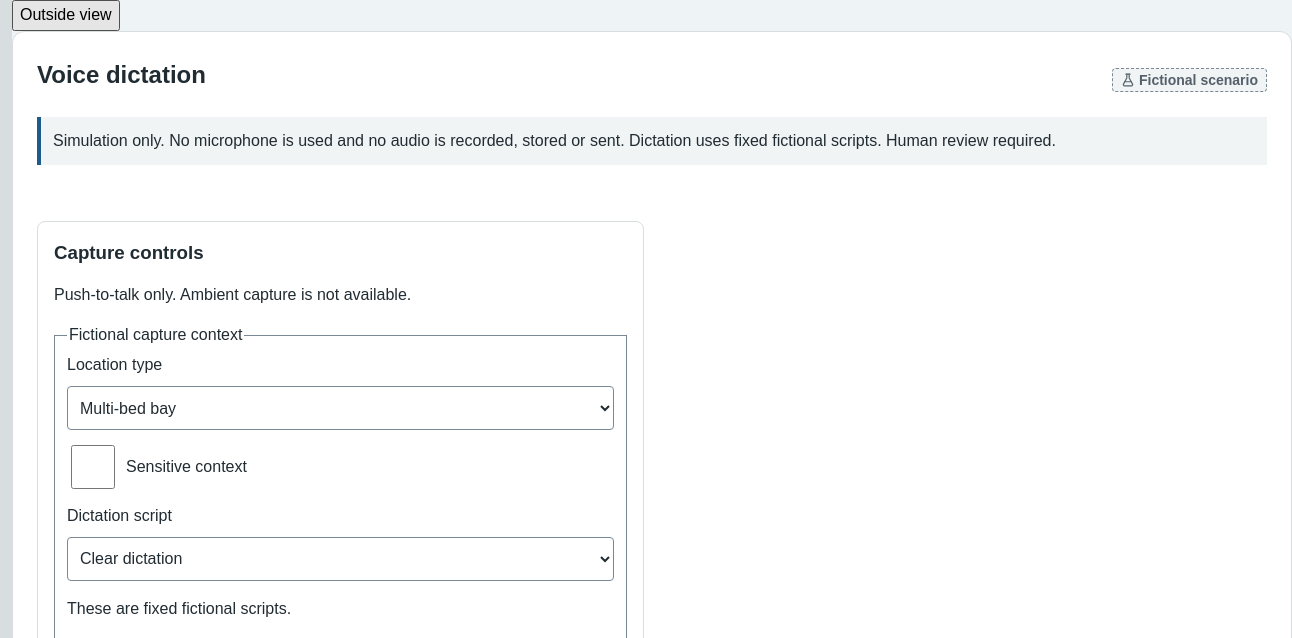
Test: announces an empty edit refusal and renders markup-shaped edits as text only
Select "Clear dictation" in the dropdown labelled "Dictation script": (340, 559) [67,537,614,581]
(page scrolled)
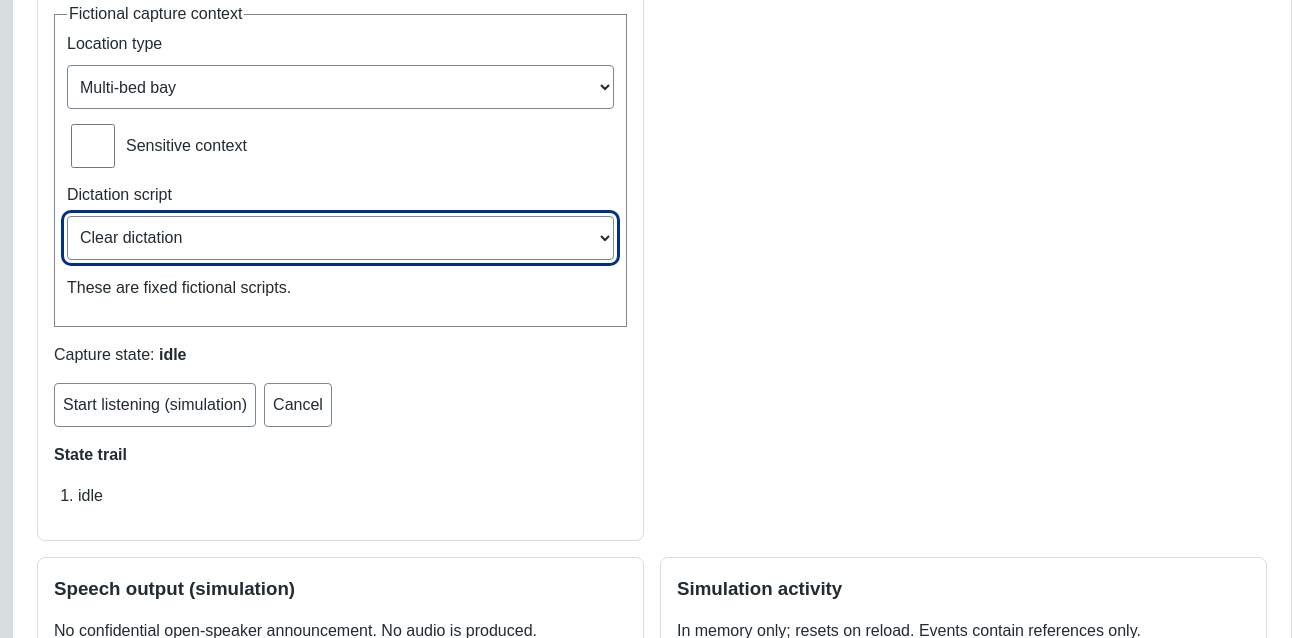
Click the button "Start listening (simulation)": (155, 405) [54,383,256,427]
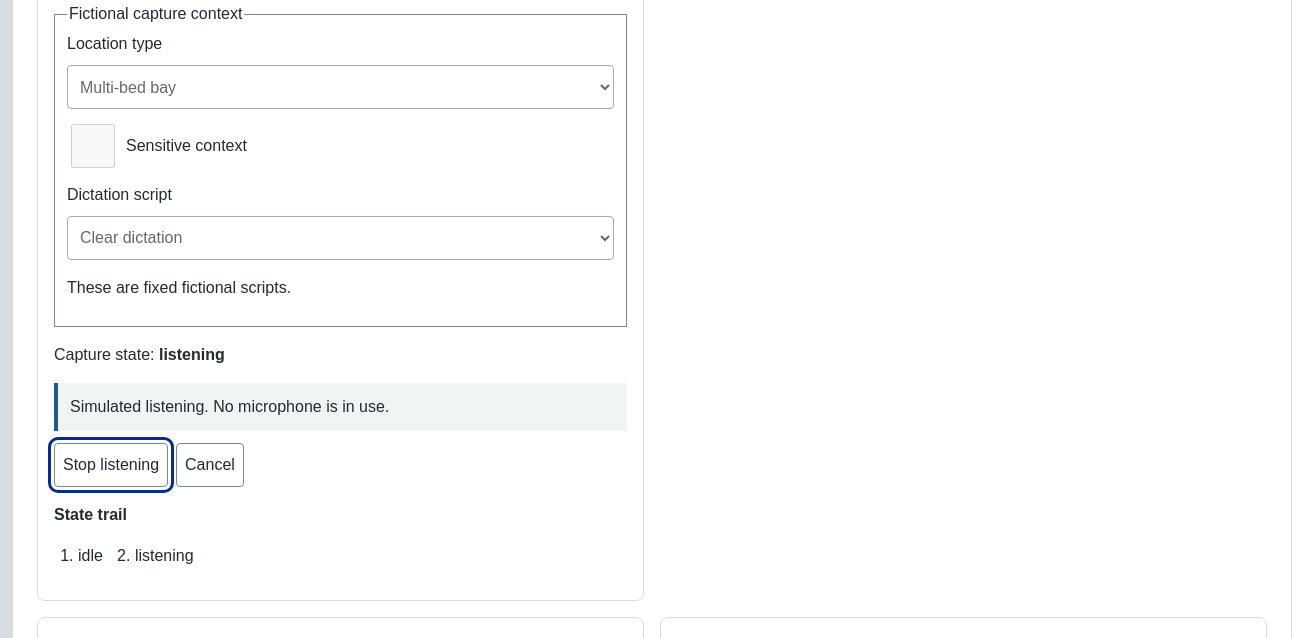
Click the button "Stop listening": (111, 465) [54,443,168,487]
(page scrolled)
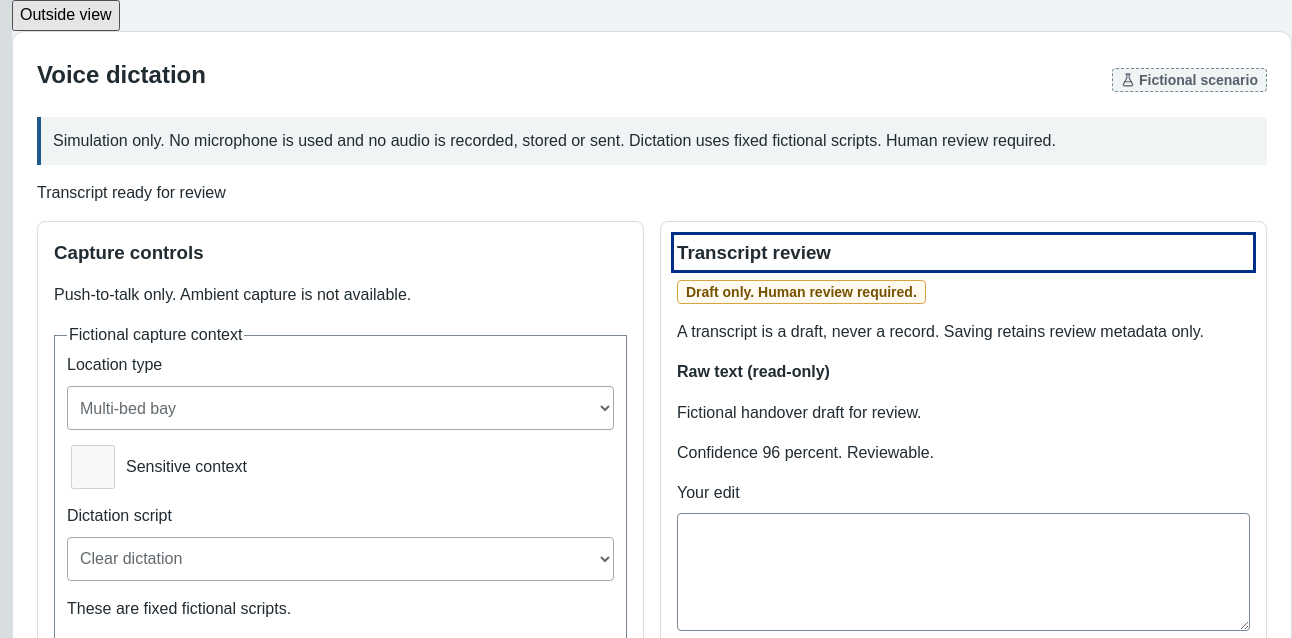
In the text box labelled "Your edit": (964, 572) [677,513,1250,631], type "<img src=x>"
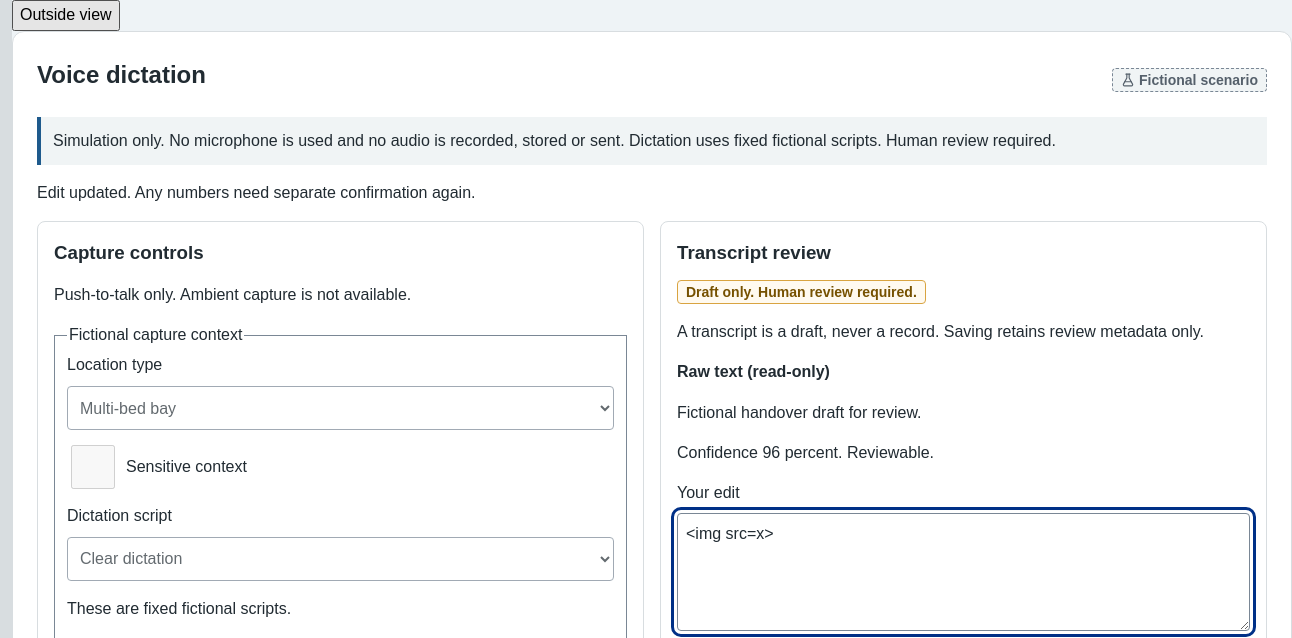
Clear the text box labelled "Your edit": (964, 572) [677,513,1250,631]
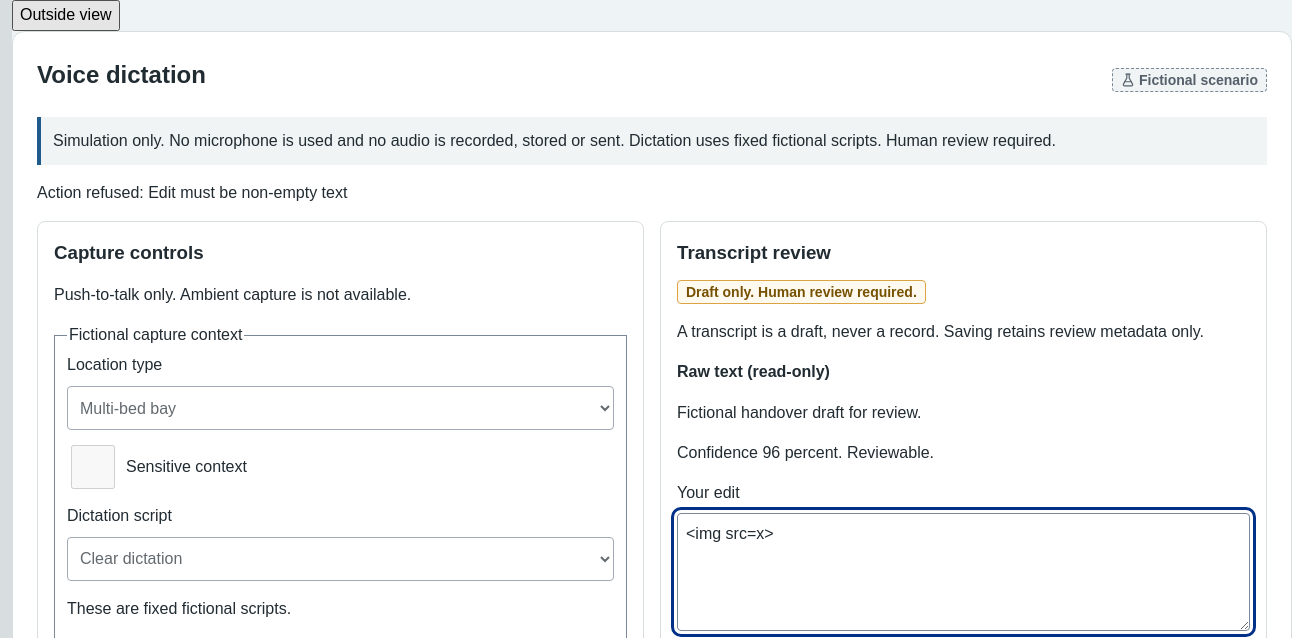
Expected: the message reads "Action refused: Edit must be non-empty text", [37,184,347,201]
